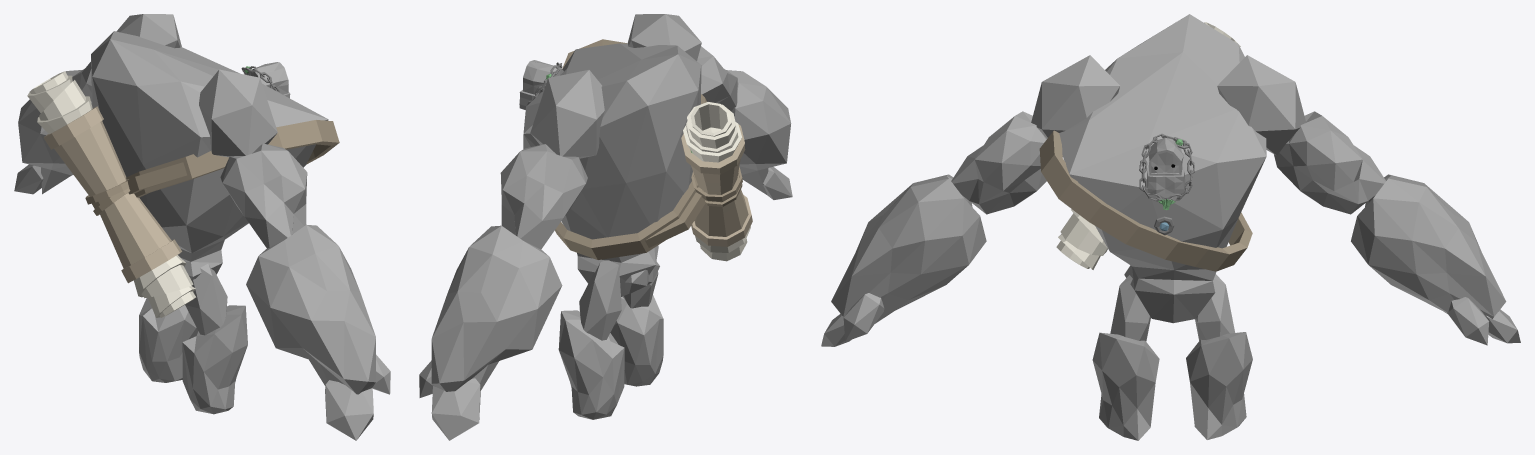
The model's file is golem_stage3.fbx.
3 renders of one model, left to right at view 1: azimuth 30°, elevation 25°; view 2: azimuth 150°, elevation 25°; view 3: azimuth 270°, elevation 25°, orthographic. The views are drawn at different scales.
Visible parts, largest first — view 1: golem, forearm, right_midarm, right_shoulder, right_calf, left_calf, left_forearm, hand, right_quad, left_shoulder, head, left_hand (+2 smaller); view 2: golem, left_forearm, left_midarm, left_calf, left_shoulder, forearm, right_calf, left_quad, left_hand, right_shoulder, right_midarm, head (+3 smaller); view 3: golem, left_forearm, forearm, left_midarm, right_midarm, left_calf, right_calf, left_shoulder, right_shoulder, head, right_quad, left_quad (+3 smaller).
Boxes of the visible parts, x1,y1,x2,y2 form: golem: (27, 31, 339, 317); forearm: (246, 224, 375, 394); right_midarm: (220, 143, 307, 248); right_shoulder: (199, 69, 277, 157); right_calf: (182, 305, 247, 414); left_calf: (139, 298, 196, 382); left_forearm: (18, 70, 81, 194); hand: (325, 380, 373, 440); right_quad: (185, 263, 227, 335); left_shoulder: (116, 14, 181, 48); head: (247, 62, 290, 98); left_hand: (14, 164, 43, 194); golem: (523, 39, 752, 296); left_forearm: (431, 225, 562, 391); left_midarm: (500, 144, 587, 249); left_calf: (558, 310, 624, 419); left_shoulder: (530, 70, 604, 158); forearm: (726, 70, 791, 194); right_calf: (610, 295, 663, 386); left_quad: (579, 260, 621, 340); left_hand: (431, 378, 480, 440); right_shoulder: (627, 14, 701, 60); right_midarm: (697, 46, 737, 111); head: (519, 60, 563, 109); golem: (1039, 14, 1266, 323); left_forearm: (1351, 174, 1506, 323); forearm: (831, 174, 986, 323); left_midarm: (1274, 111, 1385, 214); right_midarm: (951, 111, 1062, 214); left_calf: (1186, 332, 1252, 439); right_calf: (1092, 332, 1159, 440); left_shoulder: (1217, 55, 1306, 155); right_shoulder: (1031, 55, 1119, 138); head: (1146, 138, 1185, 193); right_quad: (1110, 275, 1150, 341); left_quad: (1195, 274, 1235, 340).
Size of the model in its own units: 2.45 by 3.68 by 6.15.
